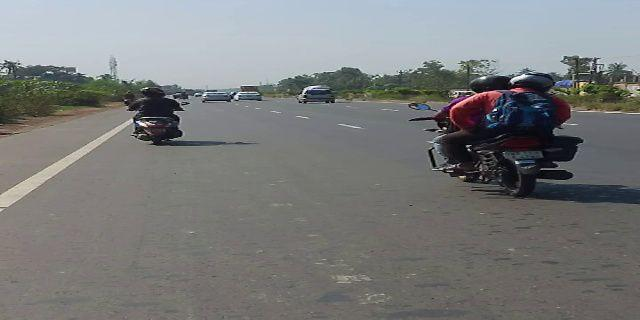Car: (295, 83, 338, 108)
Motorbike: (405, 70, 579, 196), (123, 81, 185, 149)
